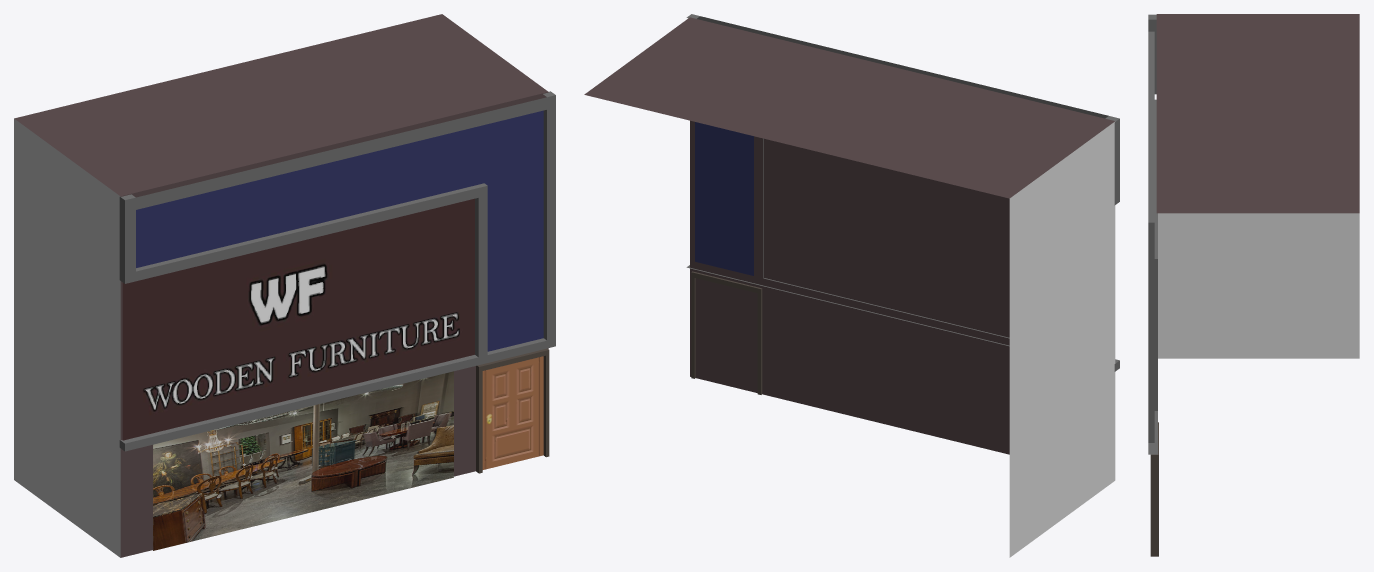
File: Furniture fbx.fbx
The picture shows the model from 3 angles, left to right: view 1: azimuth 30°, elevation 25°; view 2: azimuth 150°, elevation 25°; view 3: azimuth 270°, elevation 25°; orthographic projection. The views are drawn at different scales.
Parts seen in each view (by area): view 1: pCube3, pPlane1, pCube2, pPlane6, pPlane2, pCube4; view 2: pCube3, pCube2, pCube4; view 3: pCube3, pCube2, pCube4.
Boxes of the visible parts, x1=… form: pCube3: x1=14, y1=14, x2=548, y2=557; pPlane1: x1=122, y1=198, x2=474, y2=440; pCube2: x1=119, y1=91, x2=555, y2=451; pPlane6: x1=153, y1=371, x2=453, y2=550; pPlane2: x1=482, y1=356, x2=543, y2=469; pCube4: x1=476, y1=348, x2=549, y2=473; pCube3: x1=584, y1=17, x2=1115, y2=557; pCube2: x1=686, y1=14, x2=1119, y2=371; pCube4: x1=691, y1=271, x2=762, y2=394; pCube3: x1=1156, y1=14, x2=1359, y2=358; pCube2: x1=1148, y1=14, x2=1157, y2=454; pCube4: x1=1150, y1=422, x2=1158, y2=556.
Bounding box in the file's own units: 23.83 × 19.11 × 10.62.
Materials: 8 (3 with a texture image).
